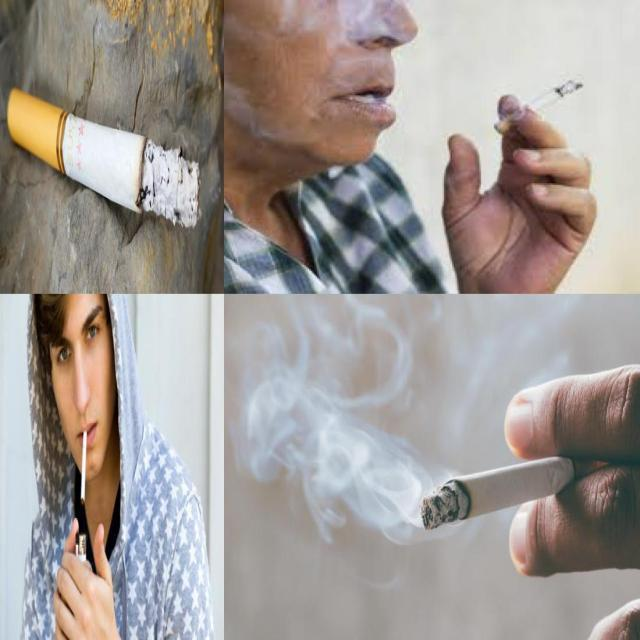smoking: (7, 86, 201, 231), (421, 450, 609, 536), (494, 80, 582, 134), (81, 430, 87, 504)
